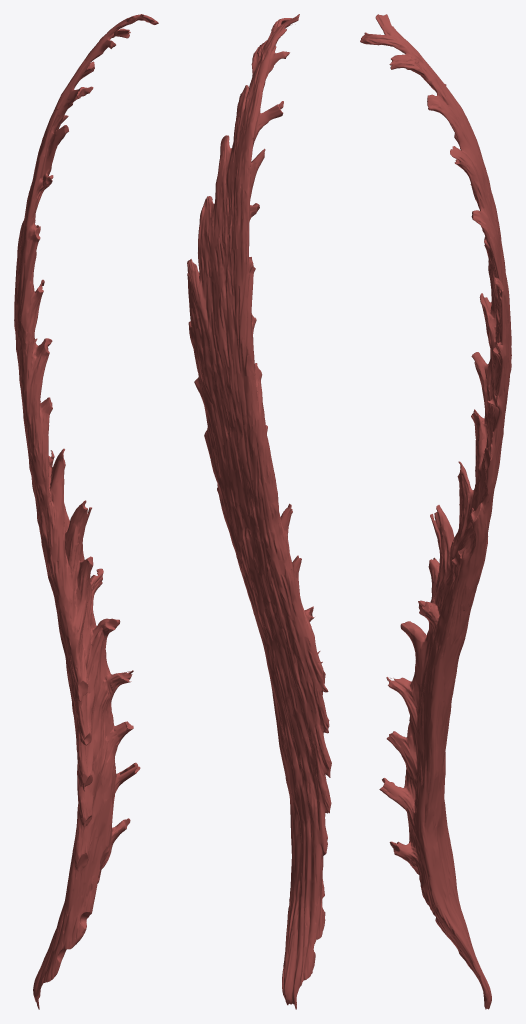
The model's file is FMA22753.glb.
3 views of the same model, side by side, from view 1: azimuth 90°, elevation 25°; view 2: azimuth 150°, elevation 25°; view 3: azimuth 270°, elevation 25° (orthographic). The views are drawn at different scales.
Visible parts, largest first — view 1: FMA22753; view 2: FMA22753; view 3: FMA22753.
Boxes of the visible parts, x1,y1,x2,y2 form: FMA22753: [14, 14, 158, 1009]; FMA22753: [187, 14, 331, 1009]; FMA22753: [360, 14, 511, 1009].
Size of the model in its own units: 0.068 by 0.5303 by 0.0715.
